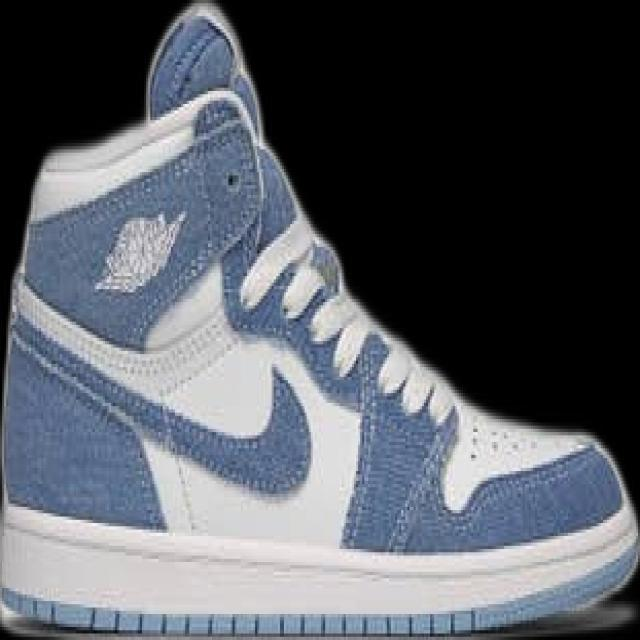J1_InsoleChar: (2, 3, 636, 635)
J1_StitchPattern: (239, 234, 461, 550), (12, 316, 210, 533), (274, 244, 439, 420), (276, 245, 371, 377), (330, 323, 437, 418), (113, 314, 238, 393), (91, 207, 188, 296), (151, 384, 207, 535), (303, 295, 370, 377), (278, 244, 339, 325), (465, 415, 528, 465), (168, 456, 204, 534), (329, 319, 367, 378)
